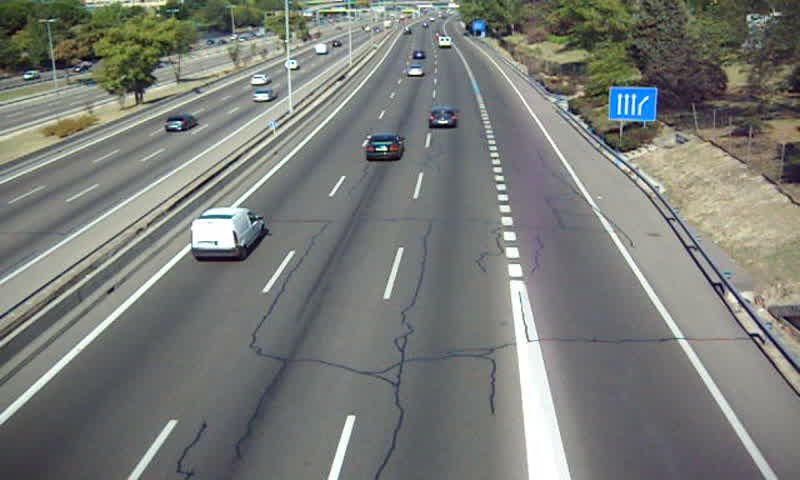car: (364, 134, 405, 162), (427, 109, 460, 130), (406, 64, 424, 78)
van: (190, 207, 264, 260)
